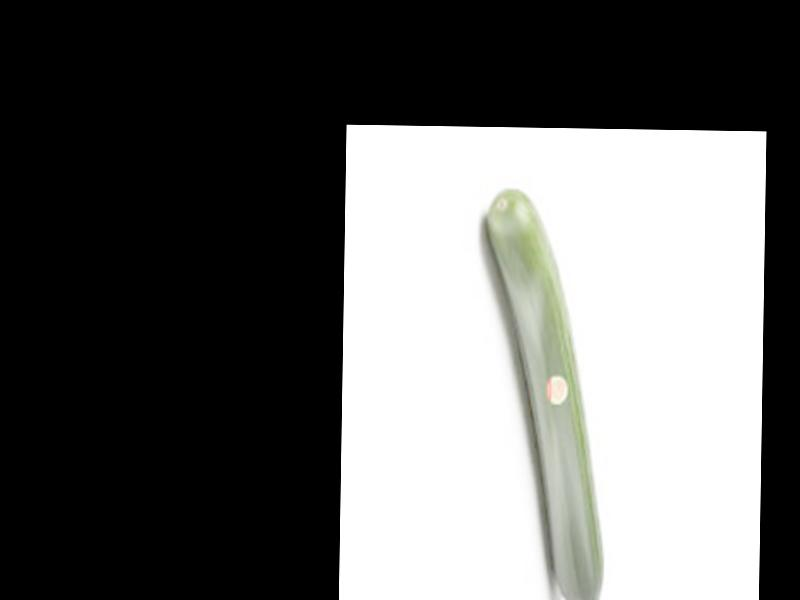Cucumber: (480, 185, 609, 600)
